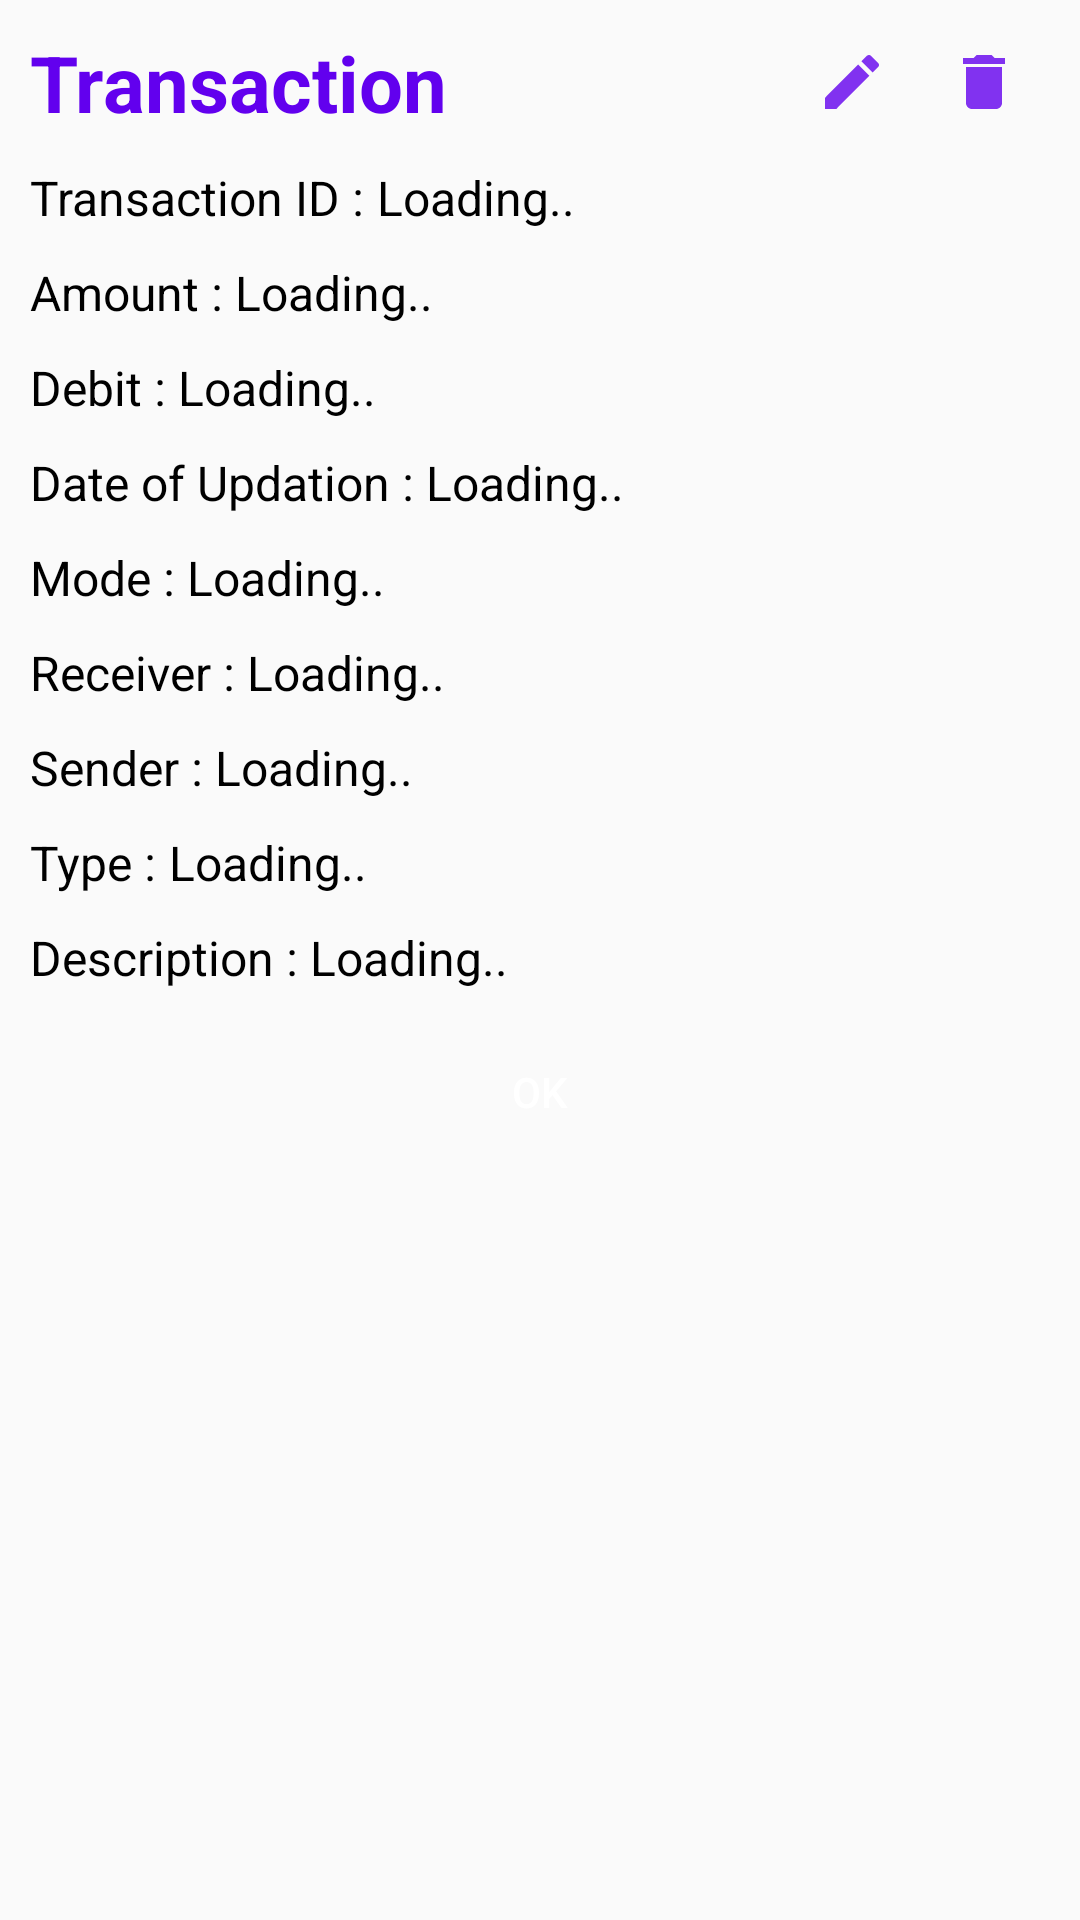

Icons on this 1080*1920 Android screen, each with the point to tap as point (x, y):
delete: point (984, 82)
edit: point (852, 82)
